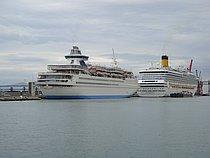Ship: (29, 39, 145, 107), (135, 52, 209, 107)
